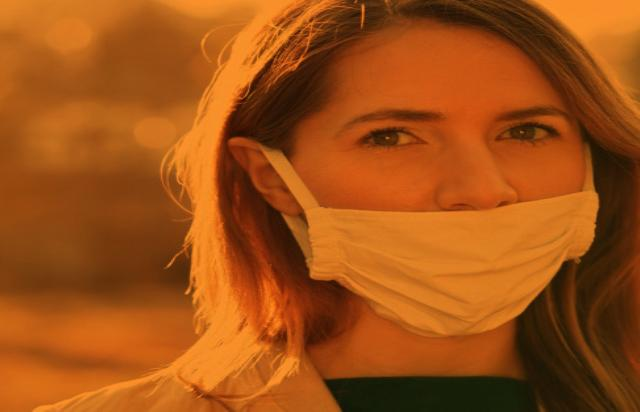mask_weared_incorrect: (191, 1, 601, 341)
